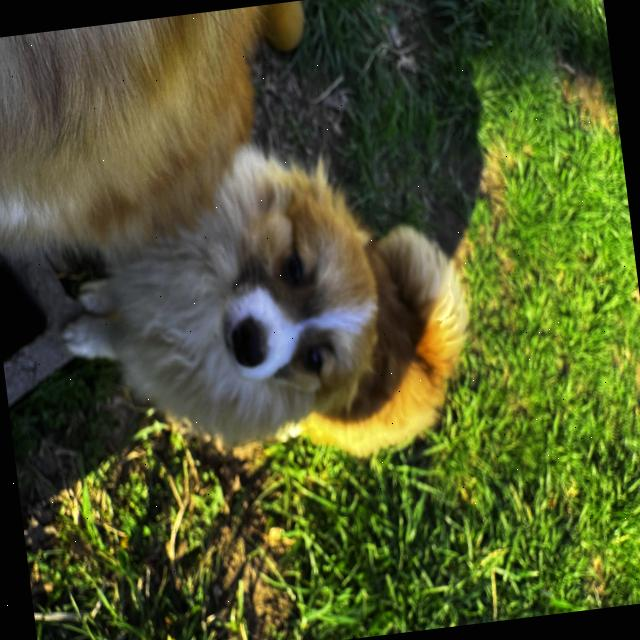pomeranian_dog: (122, 151, 397, 465)
